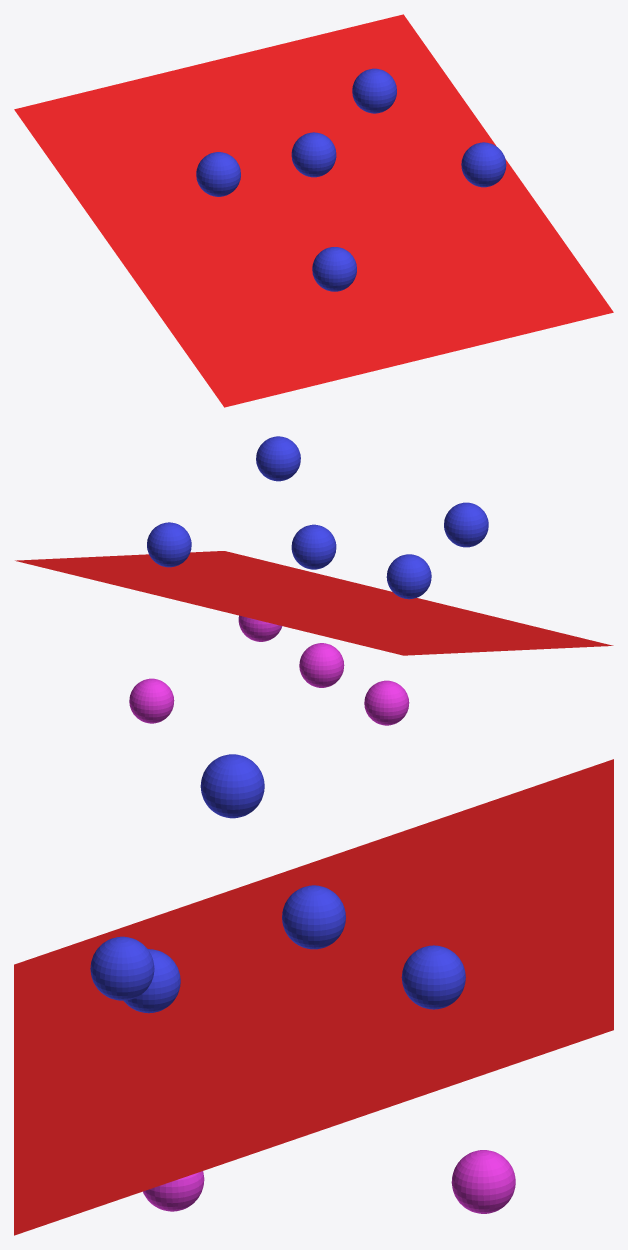
The model's file is support vector machine.glb.
3 views of the same model, one above another, from view 1: azimuth 30°, elevation 25°; view 2: azimuth 150°, elevation 25°; view 3: azimuth 270°, elevation 25° (orthographic). The views are drawn at different scales.
Parts seen in each view (by area): view 1: Plane, Sphere.001, Sphere, Sphere.002, Sphere.003, Sphere.004; view 2: Plane, Sphere.005, Sphere.007, Sphere.001, Sphere.002, Sphere.003, Sphere, Sphere.004, Sphere.008, Sphere.006; view 3: Plane, Sphere.003, Sphere.001, Sphere.007, Sphere.002, Sphere, Sphere.004, Sphere.006.
Part boxes in pixels (x1,y1,x2,y2): Plane: (14,14,613,407); Sphere.001: (461,142,506,187); Sphere: (291,132,336,177); Sphere.002: (352,68,396,113); Sphere.003: (196,152,240,196); Sphere.004: (312,247,356,291); Plane: (15,551,613,655); Sphere.005: (364,680,409,725); Sphere.007: (129,678,174,723); Sphere.001: (256,436,300,481); Sphere.002: (147,522,191,567); Sphere.003: (444,502,488,547); Sphere: (291,524,336,569); Sphere.004: (386,554,431,599); Sphere.008: (299,643,344,687); Sphere.006: (238,615,282,641); Plane: (14,759,613,1235); Sphere.003: (200,754,264,818); Sphere.001: (90,936,154,1000); Sphere.007: (451,1150,515,1213); Sphere.002: (401,945,465,1009); Sphere: (282,885,345,949); Sphere.004: (124,949,180,1013); Sphere.006: (143,1171,204,1211).
Size of the model in its own units: 2 by 1.02 by 1.87.
